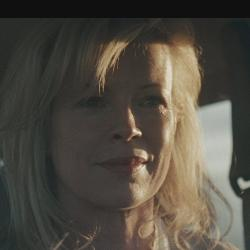face: (5, 17, 211, 229)
